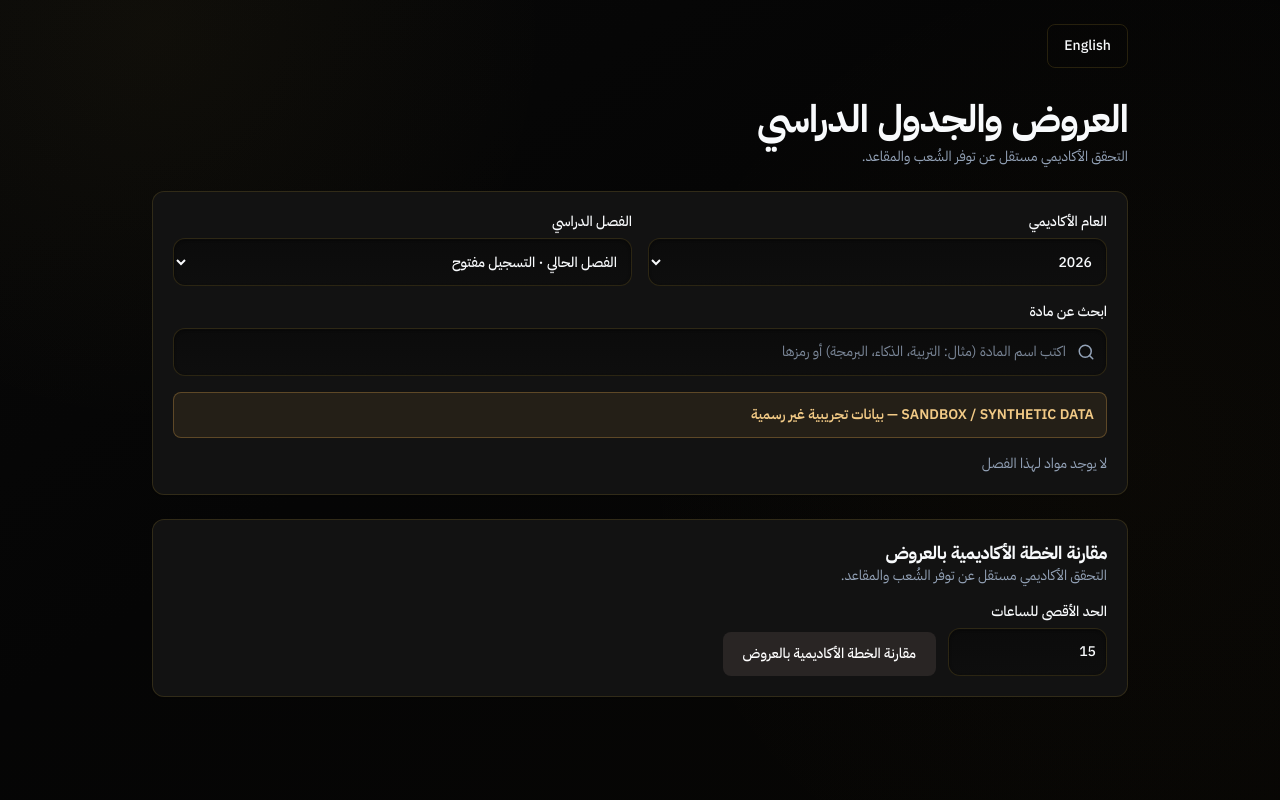
uses the exact Arabic search and verified-empty messages
Expected: the text "لا يوجد مواد لهذا الفصل" is shown, left=982, top=453, right=1107, bottom=474
Type "غير موجود" into the dropdown labelled "ابحث عن مادة".
click(640, 352); type("غير موجود")  # box left=173, top=328, right=1107, bottom=376
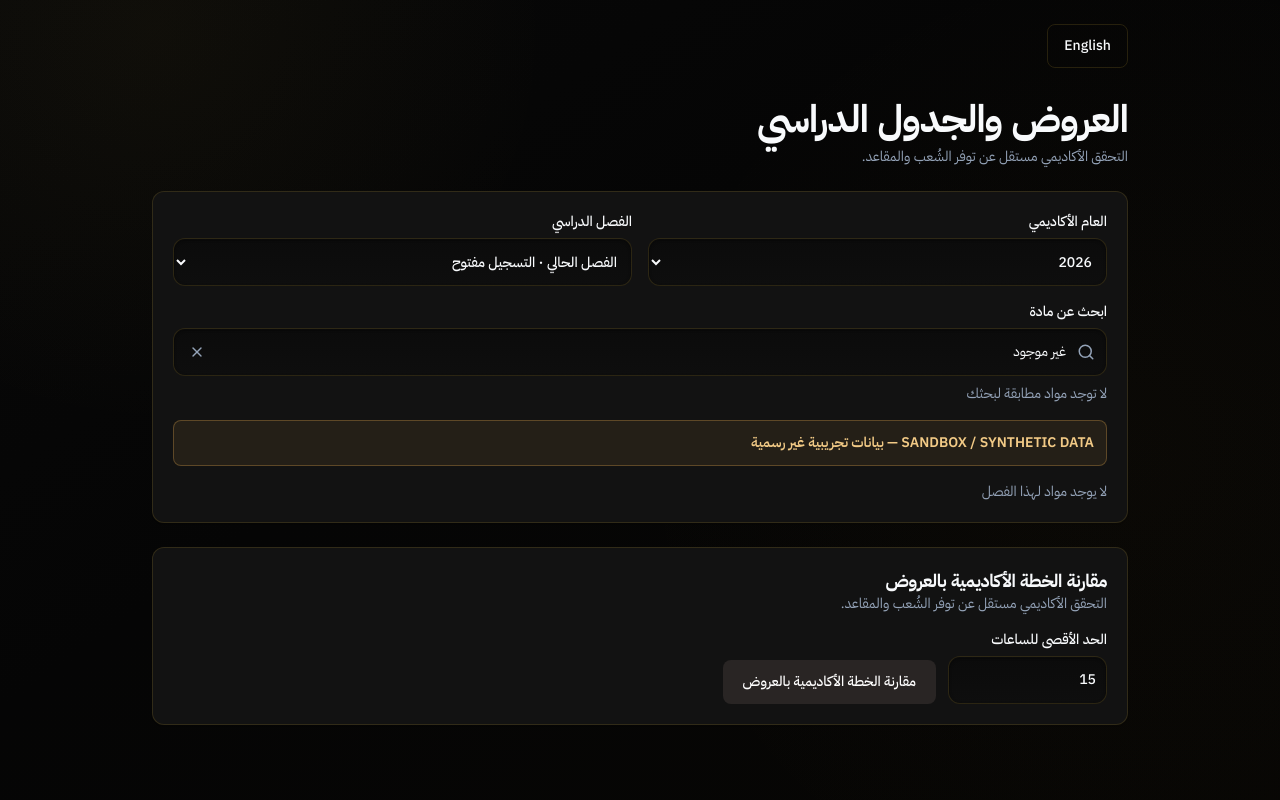
Expected: the text "لا توجد مواد مطابقة لبحثك" is shown, left=966, top=383, right=1107, bottom=404
